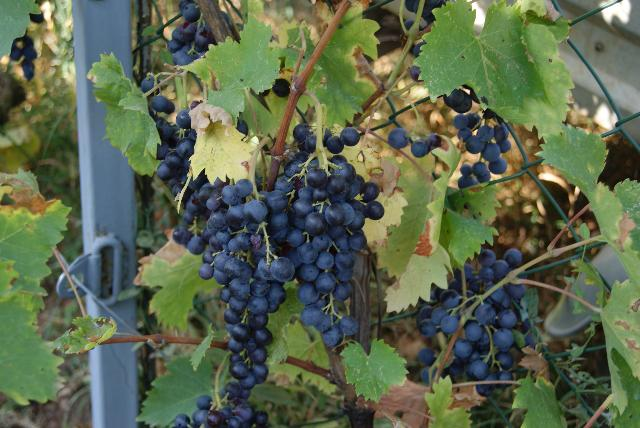grapes: (174, 179, 288, 391), (285, 155, 384, 346), (416, 249, 522, 338), (441, 284, 526, 381), (444, 89, 511, 189), (174, 381, 269, 428), (155, 118, 195, 196)
